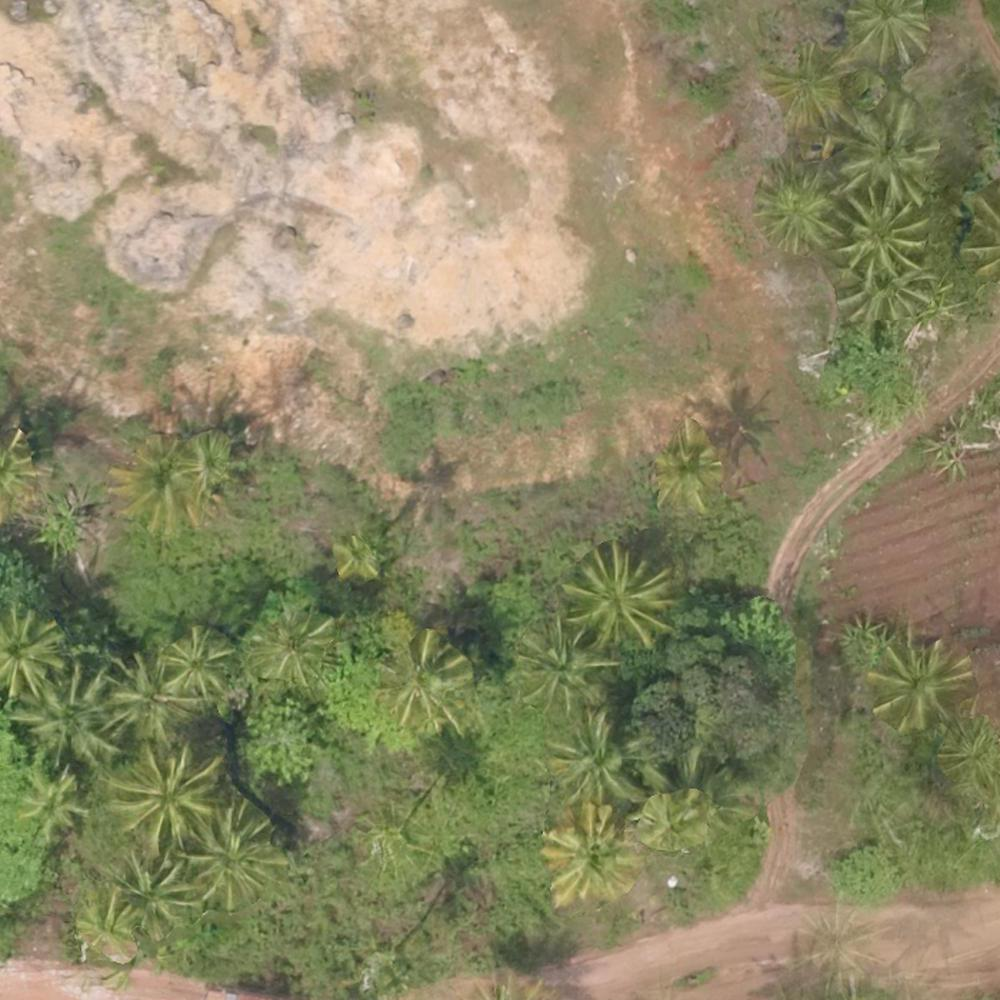Palm: (109, 746, 219, 844), (868, 633, 974, 733), (566, 547, 670, 644), (842, 98, 935, 202), (110, 438, 209, 534), (25, 669, 120, 763), (179, 812, 276, 904), (548, 709, 646, 800), (546, 807, 636, 897), (102, 848, 190, 939), (379, 635, 471, 722), (836, 189, 927, 273), (513, 623, 604, 706), (837, 256, 933, 332), (753, 159, 835, 247), (111, 652, 191, 742), (843, 1, 937, 72), (250, 605, 331, 685), (765, 42, 841, 125), (649, 425, 725, 507), (3, 606, 68, 693), (11, 771, 83, 841), (163, 628, 228, 697)
